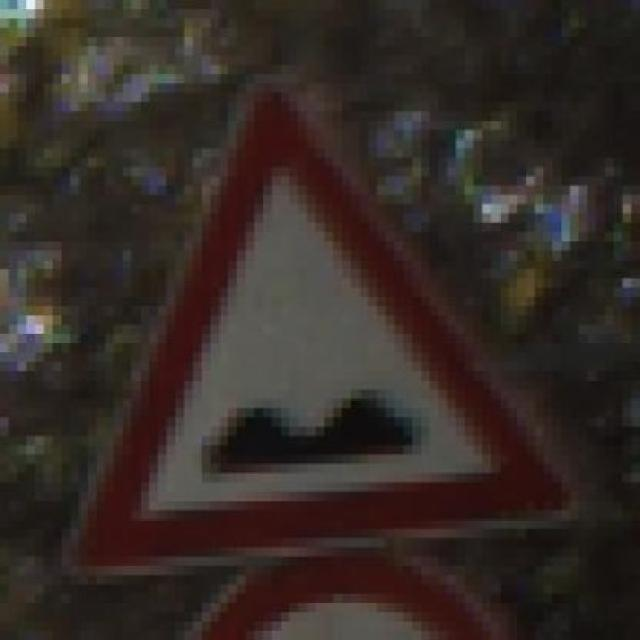Uneven Road: (57, 82, 583, 556)
